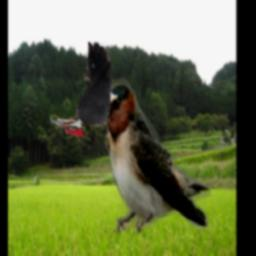Swallow: (98, 77, 211, 237)
Woodpecker: (50, 42, 111, 137)
